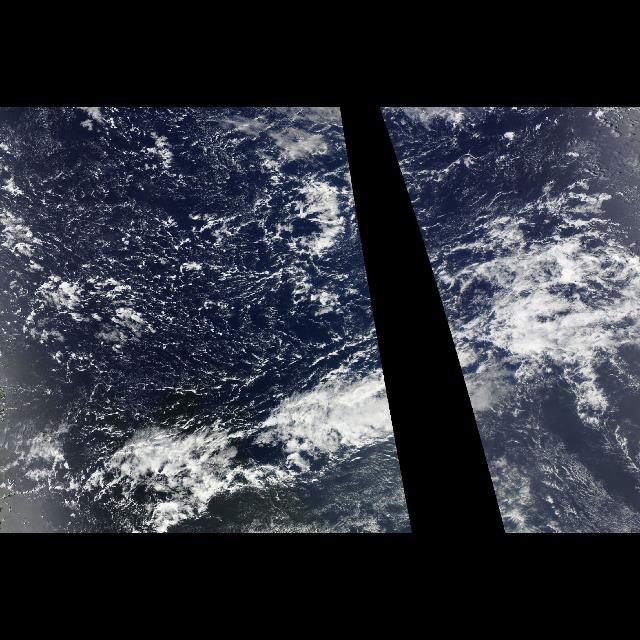Gravel: (11, 118, 302, 414)
